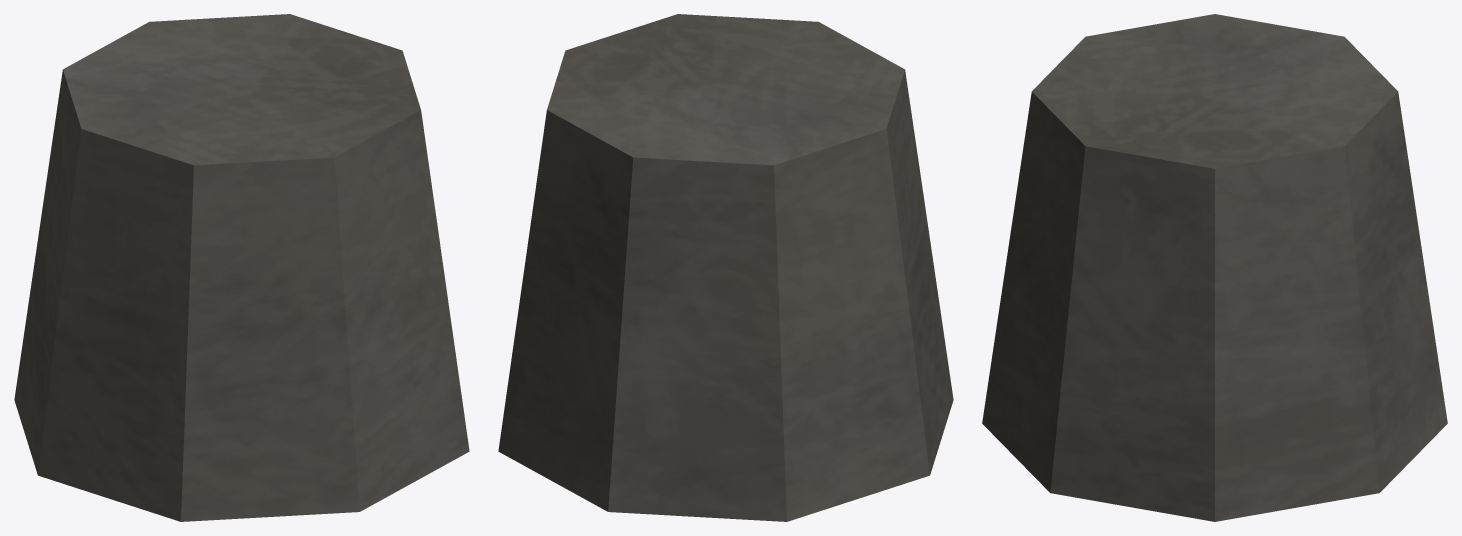
Rendered from ZachMesaRock20.fbx.
The picture shows the model from 3 angles, left to right: view 1: azimuth 30°, elevation 25°; view 2: azimuth 150°, elevation 25°; view 3: azimuth 270°, elevation 25°; orthographic projection.
Visible parts, largest first — view 1: ZachMesaRock20; view 2: ZachMesaRock20; view 3: ZachMesaRock20.
Part boxes in pixels (<box>): ZachMesaRock20: <box>14,14,469,521</box>; ZachMesaRock20: <box>498,14,953,521</box>; ZachMesaRock20: <box>982,14,1447,521</box>.
Size of the model in its own units: 2.54 by 2 by 2.54.
